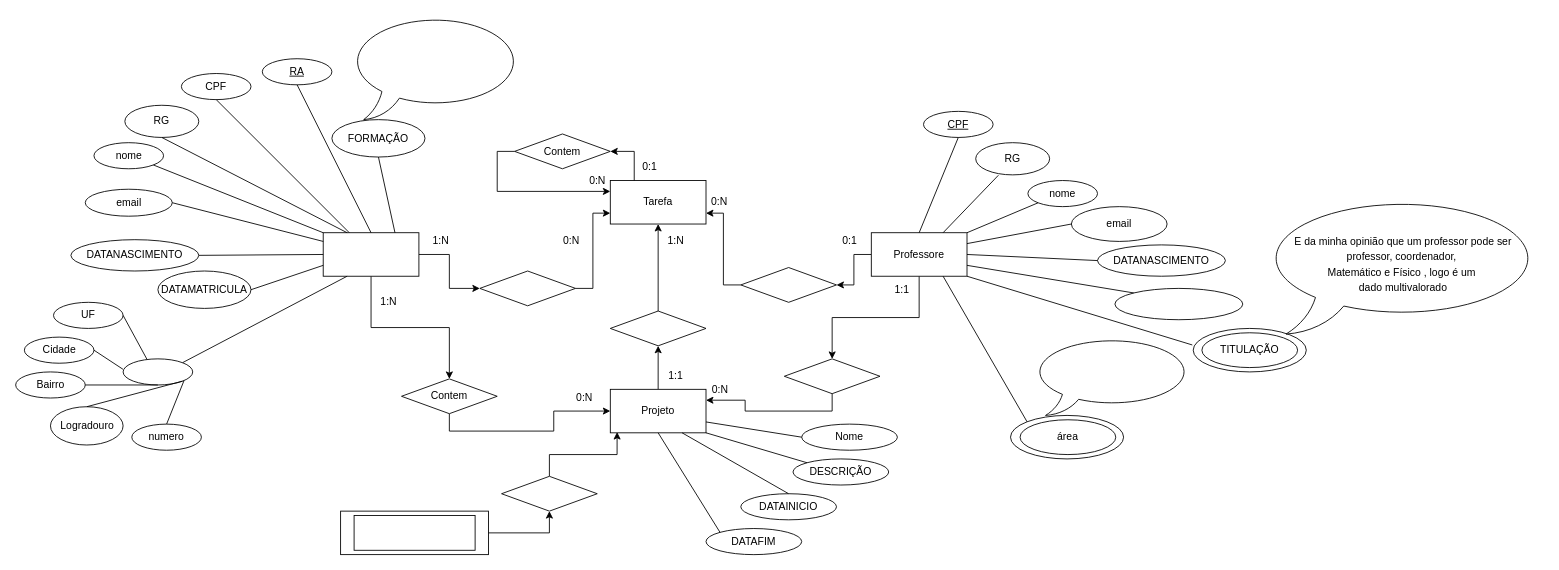
Image size: 1559x570. Some labels were removed from this diagram. The shapes that lost their labels are listed below. From the top down, each one's centre as x and y in pixels, then its label:
(435,67): Dado que establece o tipo de formação como graduação, mestrado e doutorado
(370,254): Aluno
(527,288): Faz
(788,284): Verifica
(1178,304): DATAADMISÃO
(657,328): Possui
(157,371): Endereço
(831,376): Orienta
(1112,375): Para min um professor pode atuar em 1 área ou mais.
(549,493): Financia
(414,532): Orgão_mantenedor
